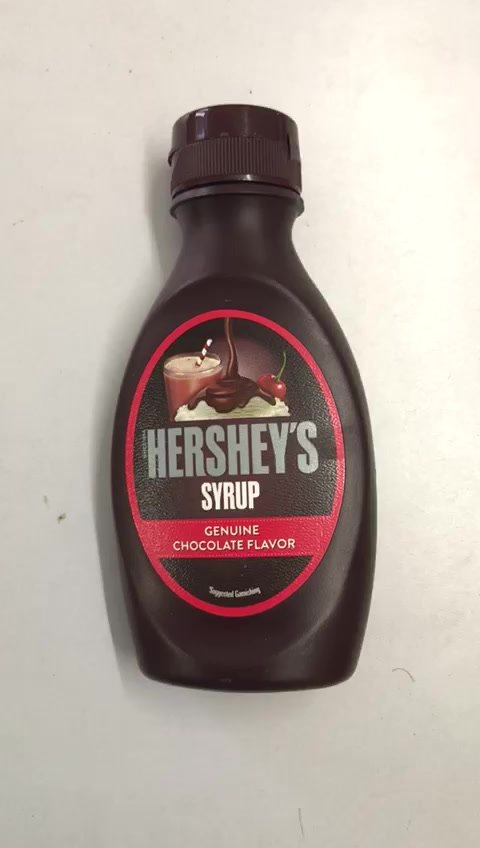hershey: (109, 102, 380, 694)
